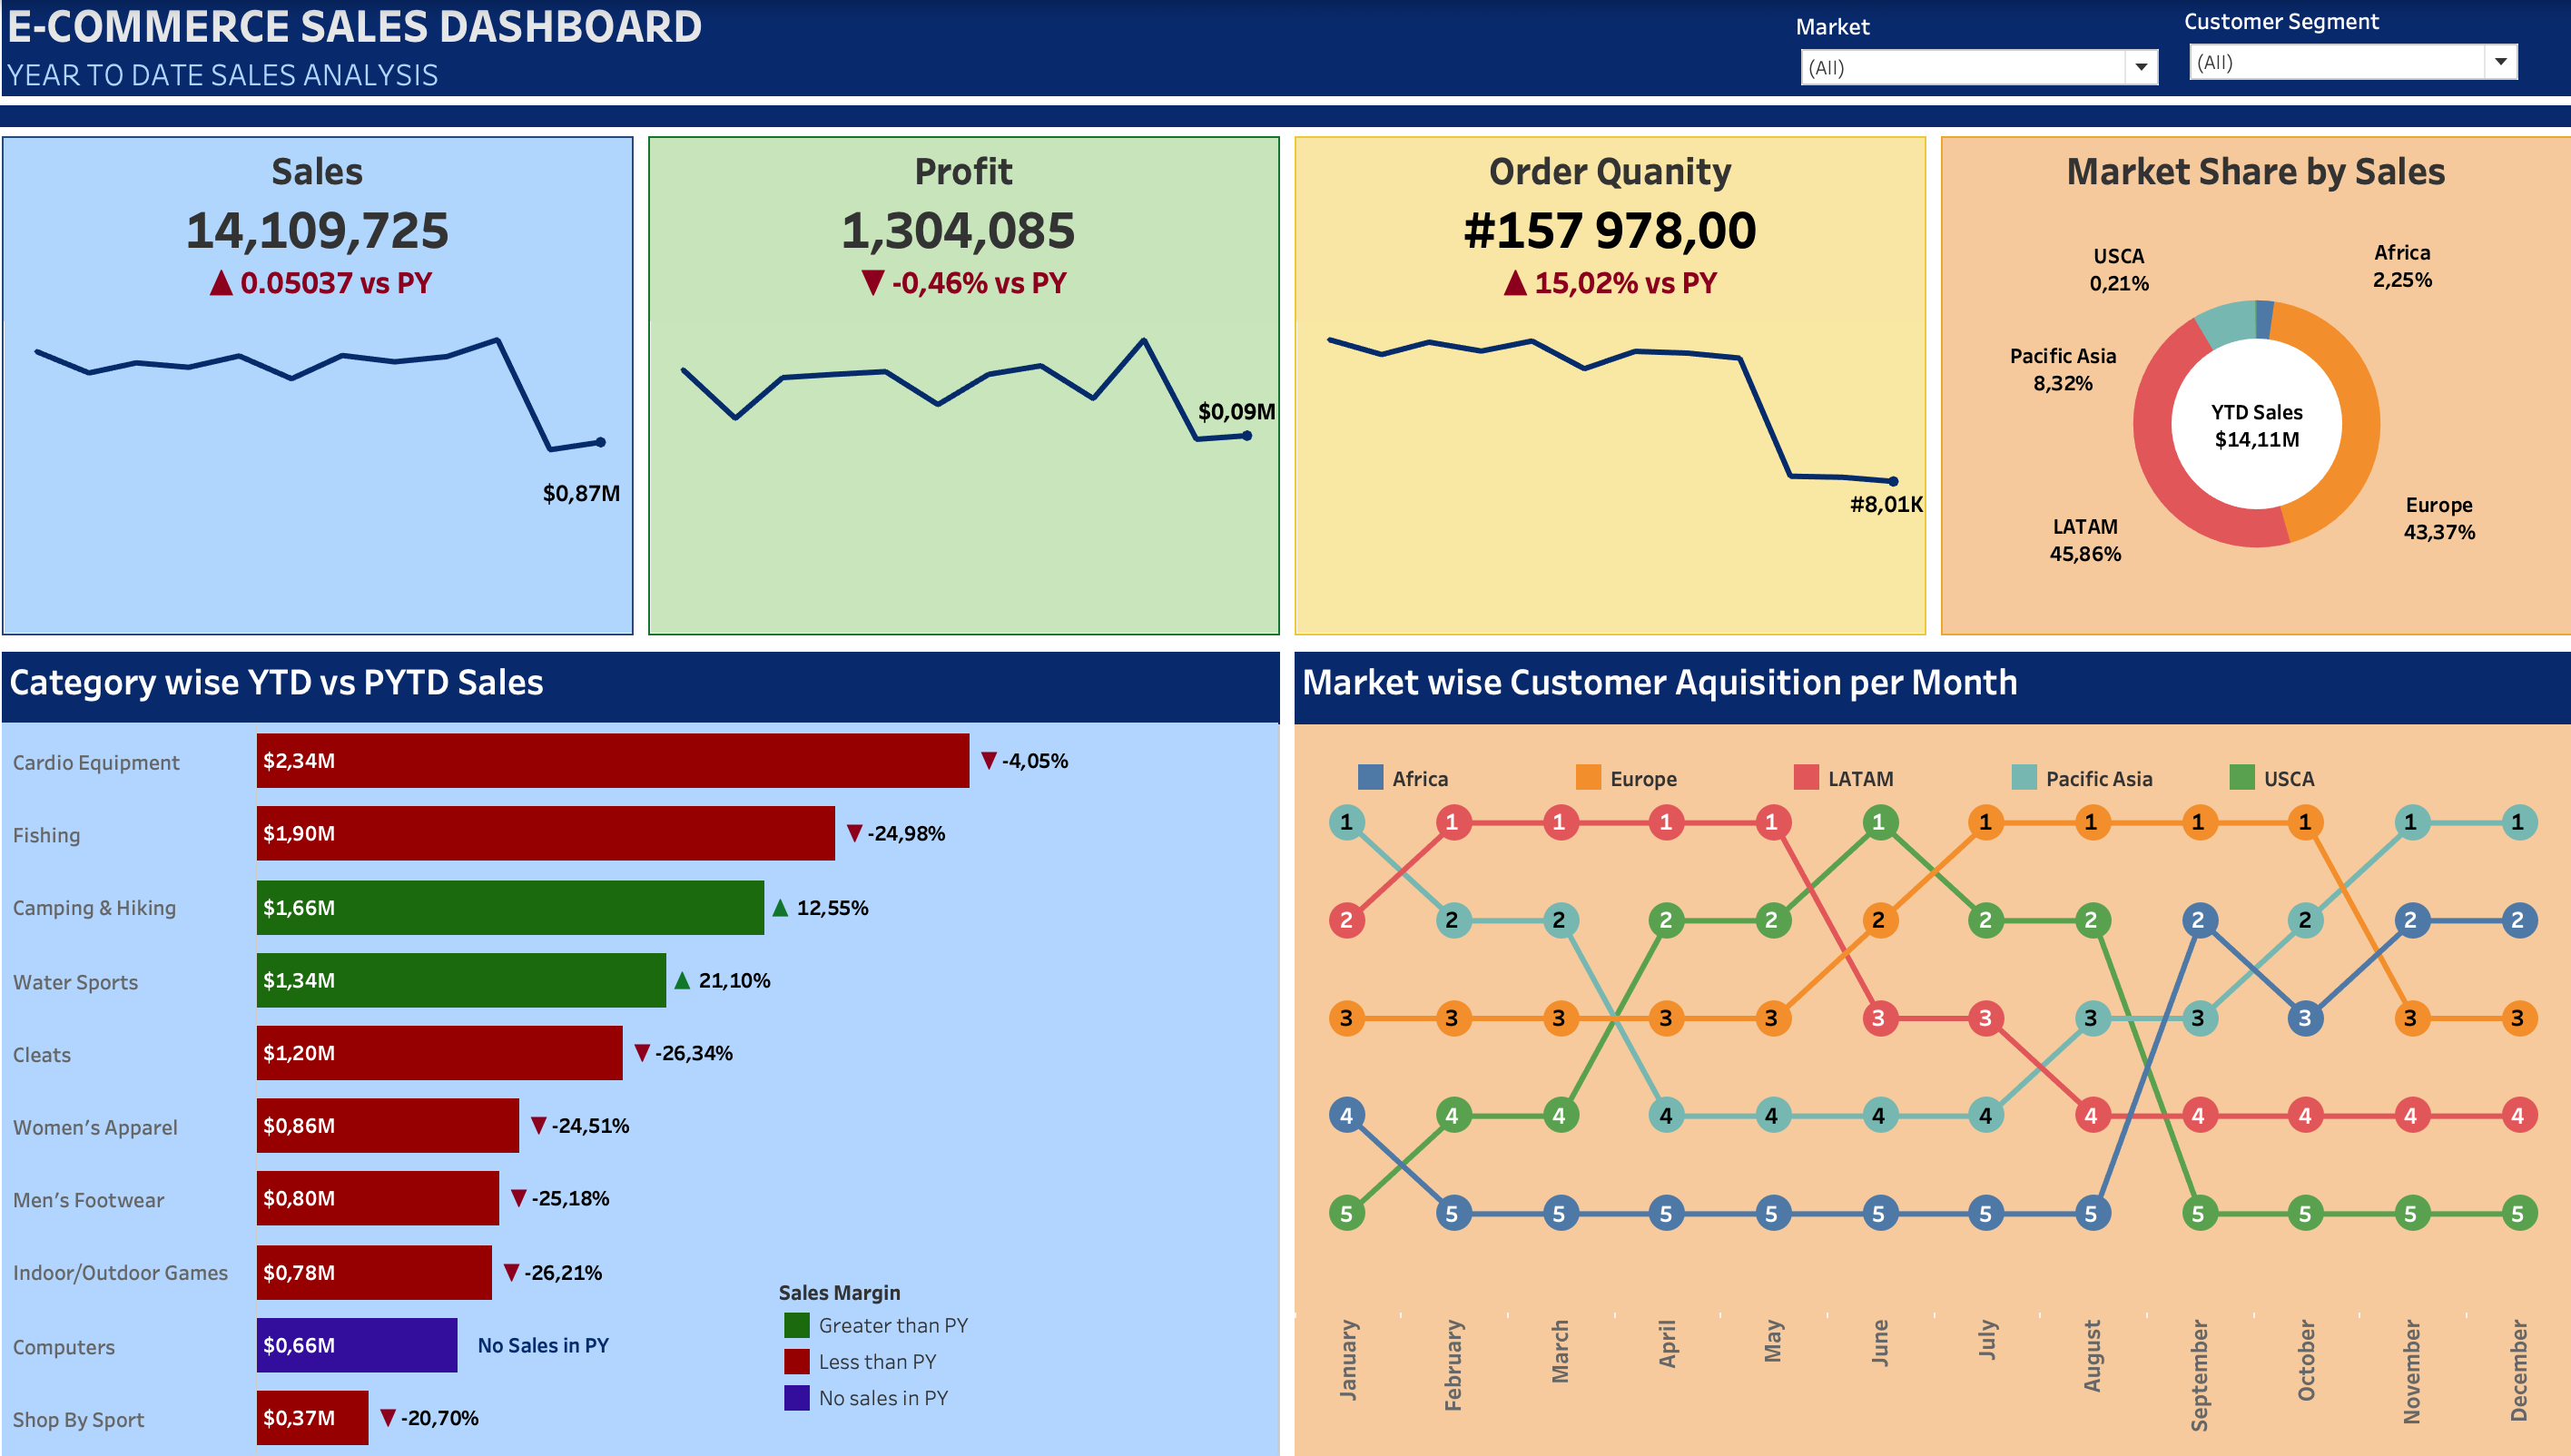

The dashboard page shown, as its layout file describes it:
{"tool":"tableau","page":{"name":"Dashboard 1","canvas":[1000,1000],"units":"permille","ordinal":0},"visuals":[{"type":"title","box":[6.7,10.4,986.6,83.3]},{"type":"filter","title":"Sales KPI","param":"[federated.12gigsb1cunfby16sv3k114kt7y5].[none:Customer Segment:nk]","box":[843.4,22.1,129.8,54.7]},{"type":"filter","title":"Sales KPI","param":"[federated.12gigsb1cunfby16sv3k114kt7y5].[none:Market:nk]","box":[694.3,24.7,140.7,53.4]},{"type":"blank","box":[6.7,93.8,986.6,18.2]},{"type":"worksheet","title":"Sales KPI","mark":"Line","rows":["Sales"],"cols":["Order Date"],"box":[6.7,112,247.1,333.3]},{"type":"worksheet","title":"Profit KPI","mark":"Line","rows":["Profit Per Order"],"cols":["Order Date"],"box":[253.8,112,247.1,333.3]},{"type":"worksheet","title":"Order Quantity KPI","mark":"Line","rows":["Order Quantity"],"cols":["Order Date"],"box":[500.8,112,246.2,333.3]},{"type":"worksheet","title":"Market Share by Sales","mark":"Pie","cols":["Calculation_2093751625536720913","Calculation_2093751625536720913"],"box":[747.1,112,246.2,333.3]},{"type":"worksheet","title":"Category wise YTD vs PYTD Sales","mark":"Bar","rows":["Category Name"],"cols":["Calculation_2093751625537122322","Calculation_2093751625537122322"],"box":[6.7,445.3,493.3,544.3]},{"type":"worksheet","title":"Market wise Customer Aquisition per Month","mark":"Automatic","cols":["Order Date"],"box":[500,445.3,493.3,544.3]},{"type":"legend","title":"Market wise Customer Aquisition per Month","param":"[federated.12gigsb1cunfby16sv3k114kt7y5].[none:Market:nk]","box":[529.3,511.7,449.8,35.2]},{"type":"legend","title":"Category wise YTD vs PYTD Sales","param":"[federated.12gigsb1cunfby16sv3k114kt7y5].[usr:Calculation_2093751625986146326:nk","box":[305.7,865.9,117.2,101.6]}]}

Visuals, with their boxes on the dashboard's canvas, which has no fixed pixel size, in thousandths of its width and height (x1, y1, x2, y2). These are canvas units, not pixel positions in the 2571x1456 screenshot, which may show the page scaled, cropped or inside an application window:
title: <box>7,10,993,94</box>
"Sales KPI" filter: <box>843,22,973,77</box>
"Sales KPI" filter: <box>694,25,835,78</box>
blank: <box>7,94,993,112</box>
"Sales KPI" worksheet (Line marks): <box>7,112,254,445</box>
"Profit KPI" worksheet (Line marks): <box>254,112,501,445</box>
"Order Quantity KPI" worksheet (Line marks): <box>501,112,747,445</box>
"Market Share by Sales" worksheet (Pie marks): <box>747,112,993,445</box>
"Category wise YTD vs PYTD Sales" worksheet (Bar marks): <box>7,445,500,990</box>
"Market wise Customer Aquisition per Month" worksheet: <box>500,445,993,990</box>
"Market wise Customer Aquisition per Month" legend: <box>529,512,979,547</box>
"Category wise YTD vs PYTD Sales" legend: <box>306,866,423,968</box>
